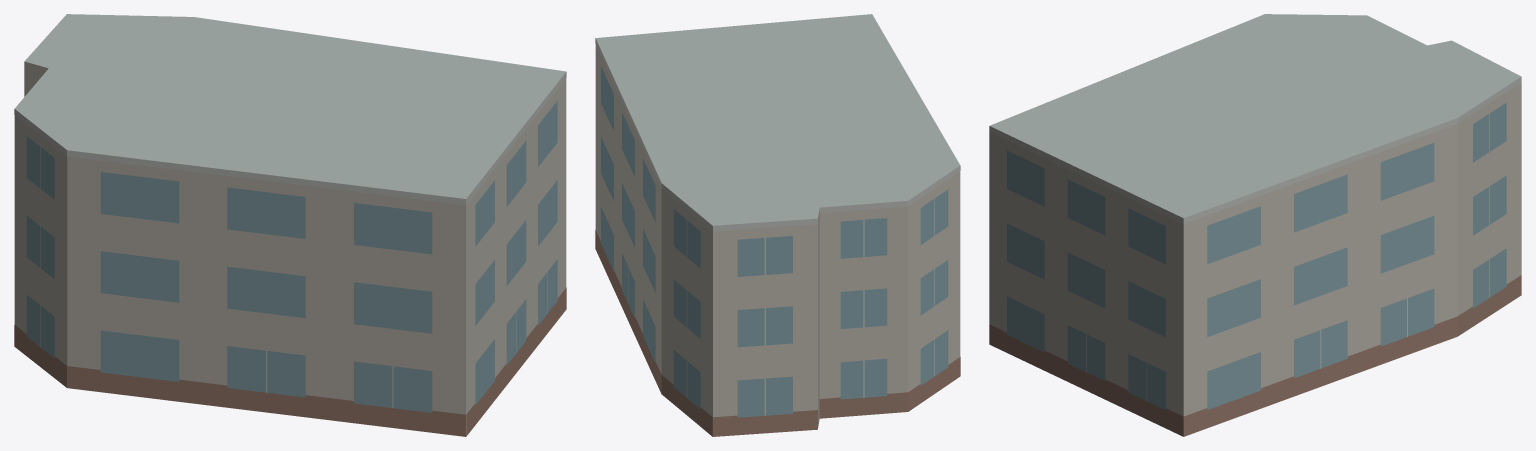
The model's file is survey-upis-32596683.glb.
The picture shows the model from 3 angles, left to right: view 1: azimuth 30°, elevation 25°; view 2: azimuth 150°, elevation 25°; view 3: azimuth 270°, elevation 25°; orthographic projection. The views are drawn at different scales.
Visible parts, largest first — view 1: survey-upis-32596683.tmp; view 2: survey-upis-32596683.tmp; view 3: survey-upis-32596683.tmp.
Part boxes in pixels (<box>): survey-upis-32596683.tmp: <box>14,14,566,436</box>; survey-upis-32596683.tmp: <box>595,14,960,436</box>; survey-upis-32596683.tmp: <box>989,14,1521,436</box>.
Bounding box in the file's own units: 18.34 × 9.15 × 20.19.
